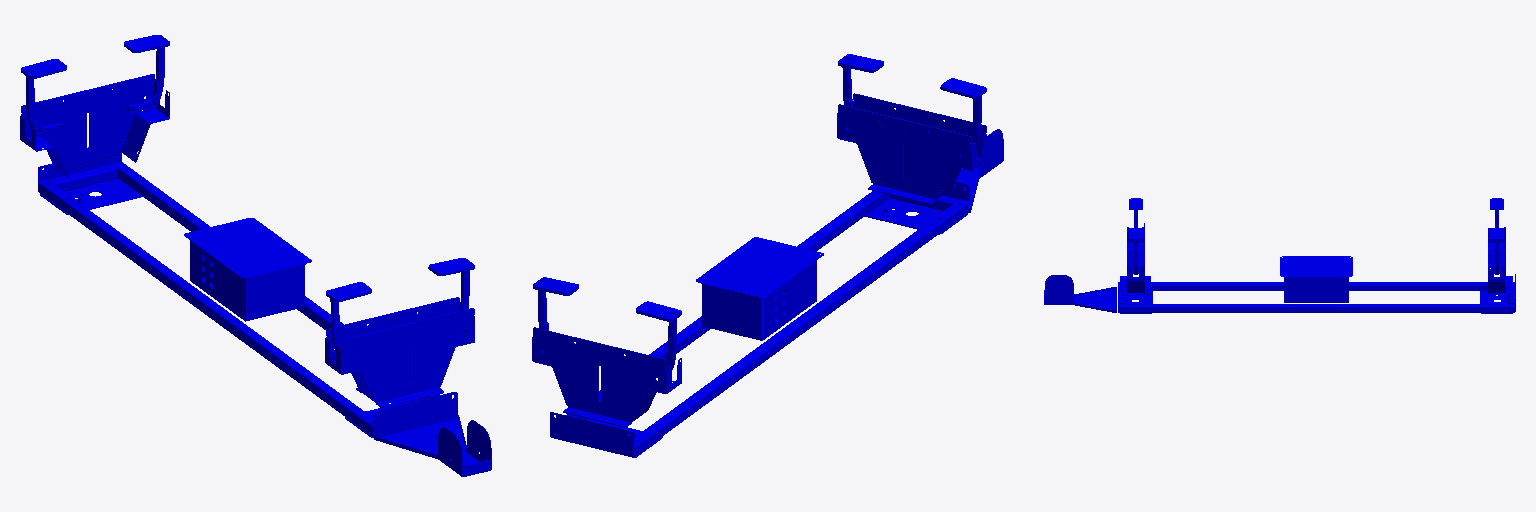
The robot description file, URDF, robot "gripper":
<?xml version="1.0" encoding="utf-8"?>
<!-- This URDF was automatically created by SolidWorks to URDF Exporter! Originally created by [author] ([email redacted]) 
     Commit Version: 1.6.0-1-g15f4949  Build Version: 1.6.7594.29634
     For more information, please see http://wiki.ros.org/sw_urdf_exporter -->
<robot
  name="gripper">
  <link
    name="base_gripper">
    <inertial>
      <origin
        xyz="4.44269312857611E-05 -0.10160702832714 0.0859385581283258"
        rpy="0 0 0" />
      <mass
        value="18.8088122684362" />
      <inertia
        ixx="1.30024494507666"
        ixy="-4.9477428637012E-05"
        ixz="-1.36604656275879E-05"
        iyy="0.0886421896230879"
        iyz="0.000632387422119488"
        izz="1.33699253809217" />
    </inertial>
    <visual>
      <origin
        xyz="0 0 0"
        rpy="0 0 0" />
      <geometry>
        <mesh
          filename="package://gripper/meshes/base_gripper.STL" />
      </geometry>
      <material
        name="">
        <color
          rgba="0 0 1 1" />
      </material>
    </visual>
    <collision>
      <origin
        xyz="0 0 0"
        rpy="0 0 0" />
      <geometry>
        <mesh
          filename="package://gripper/meshes/base_gripper.STL" />
      </geometry>
    </collision>
  </link>
</robot>

--- What the picture shows (computed from the rendered views, not written in the file) ---
3 views of the same robot in one strip: view 1: azimuth 30°, elevation 25°; view 2: azimuth 150°, elevation 25°; view 3: azimuth 270°, elevation 25° (orthographic).
Robot: gripper — 1 links, 0 joints (none); root link base_gripper; default pose: all joints at 0.
Visible links, largest first — view 1: base_gripper; view 2: base_gripper; view 3: base_gripper.
Link boxes in pixels (bbox=[...]): base_gripper: bbox=[20, 35, 491, 476]; base_gripper: bbox=[532, 54, 1003, 457]; base_gripper: bbox=[1044, 198, 1515, 313].
Bounding box of the posed robot: 0.3983 × 1.96 × 0.381 m (x, y, z).
1 mesh visuals loaded from 1 distinct referenced files (1 binary STL).